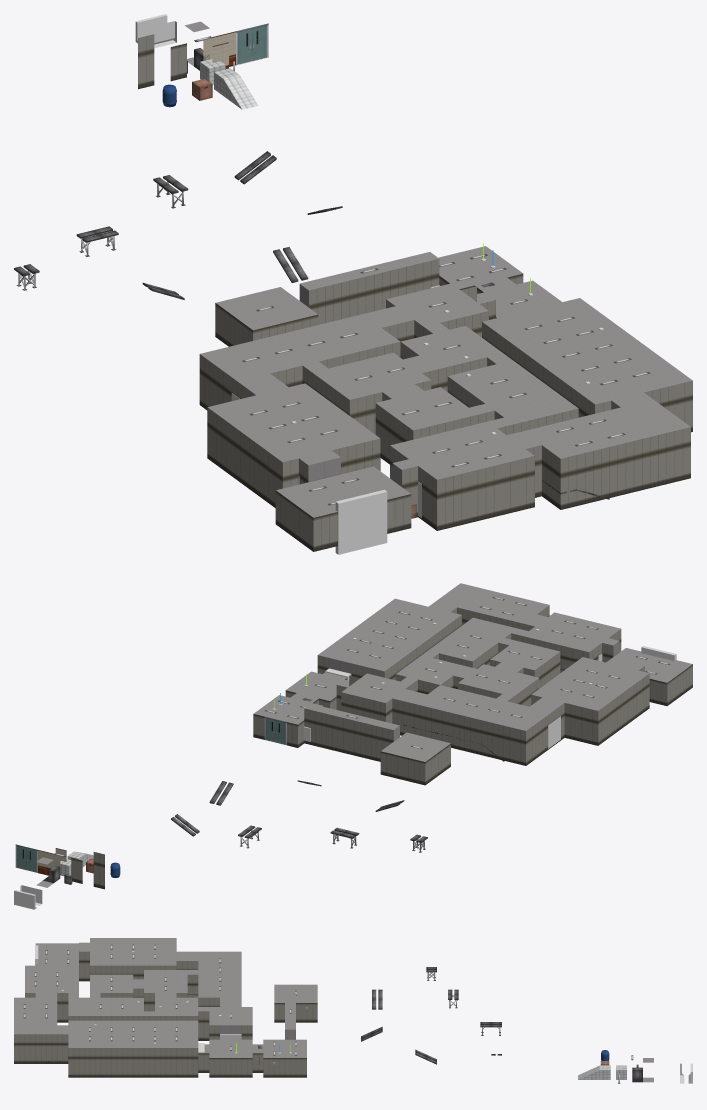
File: bvj-3-level-7.glb
3 renders of one model, top to bottom at view 1: azimuth 30°, elevation 25°; view 2: azimuth 150°, elevation 25°; view 3: azimuth 270°, elevation 25°, orthographic. The views are drawn at different scales.
Visible parts, largest first — view 1: info_exit_level, door-double, panel-white-ramp-1x3, wide-only-gate, wall-panel-3x1.145, wall-panel-3x1.146, wall-panel-3x1.165, wall-panel-3x1, wall-panel-3x1.143, wall-panel-3x1.163, wall-panel-3x1.167, wall-panel-3x1.148 (+7 smaller); view 2: wide-only-gate, door-double, door-double.001; view 3: panel-white-ramp-1x3, wall-panel-3x1.006, wall-panel-3x1.007, wall-panel-3x1.012, wall-panel-3x1.013, wall-panel-3x1.005, wall-panel-3x1.168, wall-panel-3x1.169, wall-panel-3x1.170, wall-panel-3x1.183, wall-panel-3x1.211, wall-panel-3x1.142 (+10 smaller).
Boxes of the visible parts, x1,y1,x2,y2 form: info_exit_level: [335, 489, 387, 554]; door-double: [236, 23, 268, 65]; panel-white-ramp-1x3: [214, 68, 258, 109]; wide-only-gate: [135, 14, 176, 48]; wall-panel-3x1.145: [437, 476, 453, 530]; wall-panel-3x1.146: [518, 456, 534, 510]; wall-panel-3x1.165: [609, 443, 625, 497]; wall-panel-3x1: [138, 34, 154, 89]; wall-panel-3x1.143: [469, 468, 485, 522]; wall-panel-3x1.163: [642, 435, 658, 489]; wall-panel-3x1.167: [658, 431, 674, 485]; wall-panel-3x1.148: [486, 464, 502, 518]; wide-only-gate: [14, 885, 42, 909]; door-double: [15, 844, 37, 872]; door-double.001: [264, 717, 286, 745]; panel-white-ramp-1x3: [578, 1065, 610, 1079]; wall-panel-3x1.006: [187, 1048, 198, 1077]; wall-panel-3x1.007: [176, 1048, 187, 1077]; wall-panel-3x1.012: [122, 1048, 133, 1077]; wall-panel-3x1.013: [111, 1048, 122, 1077]; wall-panel-3x1.005: [100, 1048, 111, 1077]; wall-panel-3x1.168: [57, 1034, 68, 1063]; wall-panel-3x1.169: [46, 1034, 57, 1063]; wall-panel-3x1.170: [35, 1034, 46, 1063]; wall-panel-3x1.183: [57, 993, 68, 1022]; wall-panel-3x1.211: [198, 1011, 209, 1040]; wall-panel-3x1.142: [79, 951, 89, 981].
Size of what is drawn, in the model's own units: 29 by 3.55 by 62.6.
Materials: 17 (14 with a texture image).
